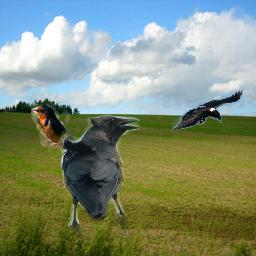Crow: (61, 112, 140, 239), (172, 89, 243, 130)
Swallow: (31, 103, 97, 168)
